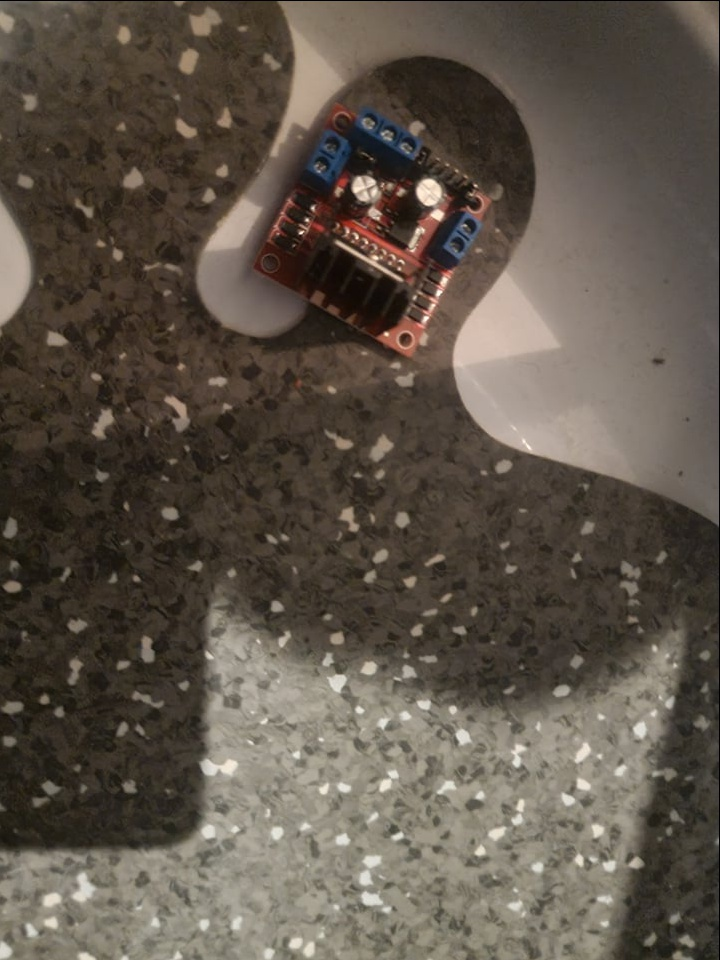MOTOR: (252, 96, 491, 358)
